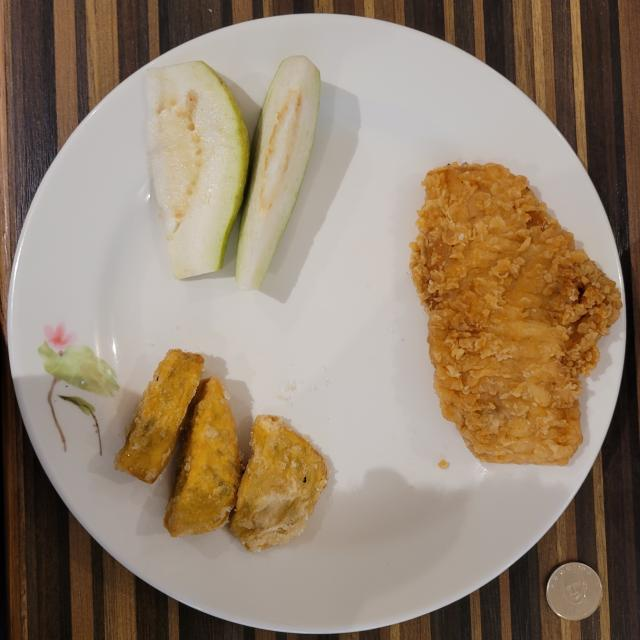coin: (546, 562, 602, 620)
fried chicken cutlet: (410, 164, 621, 465)
fried potato: (115, 349, 329, 551)
guava -sliced-: (148, 56, 320, 290)
